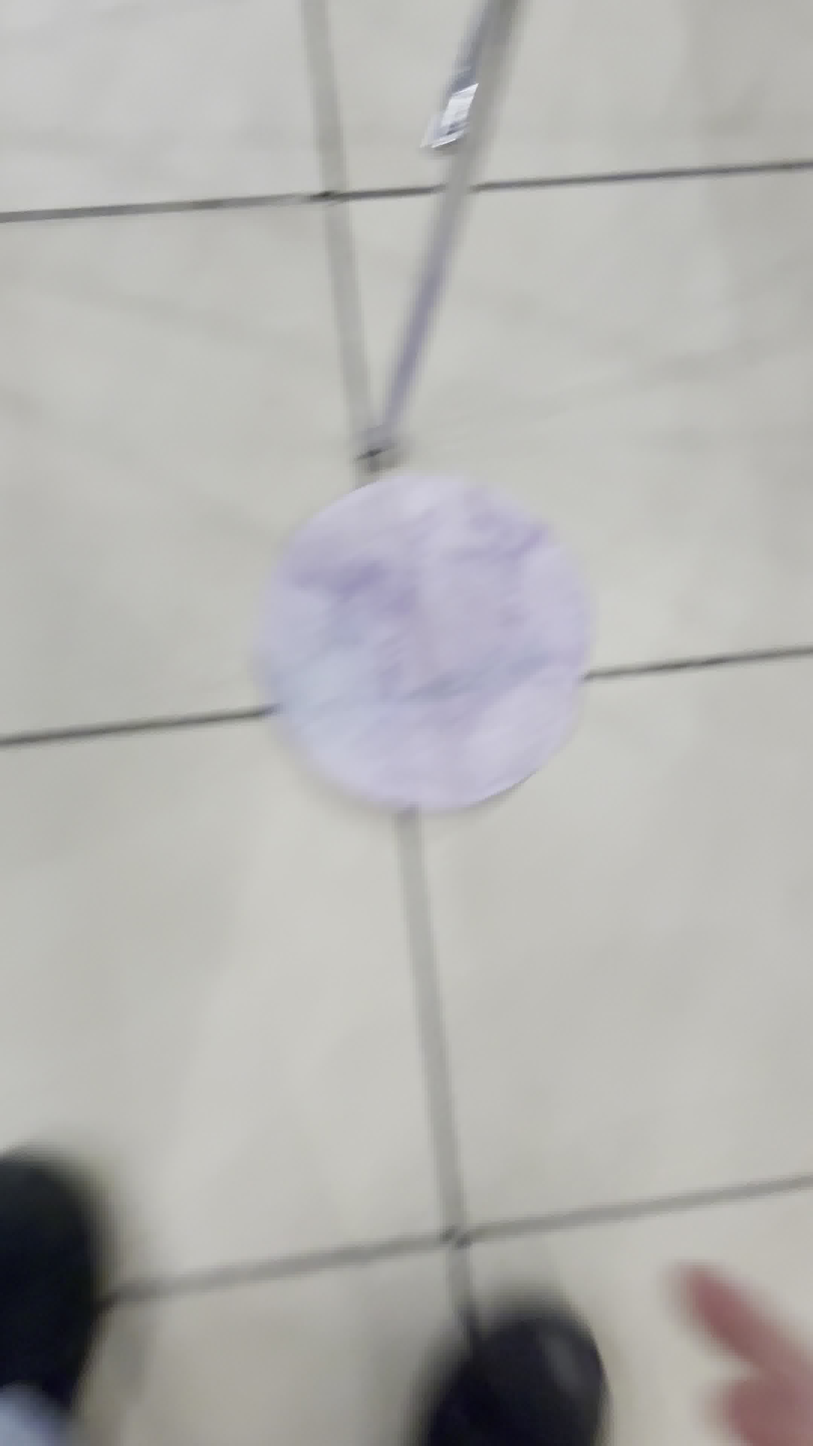Target: (245, 469, 586, 815)
